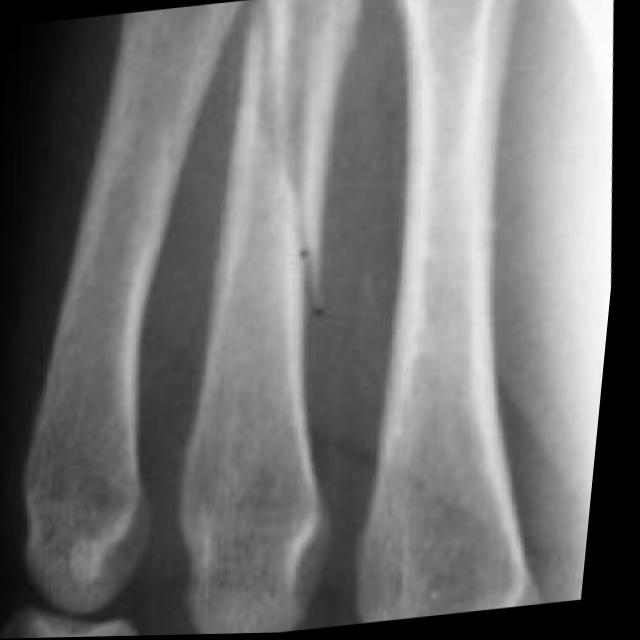fracture: (268, 198, 352, 334)
